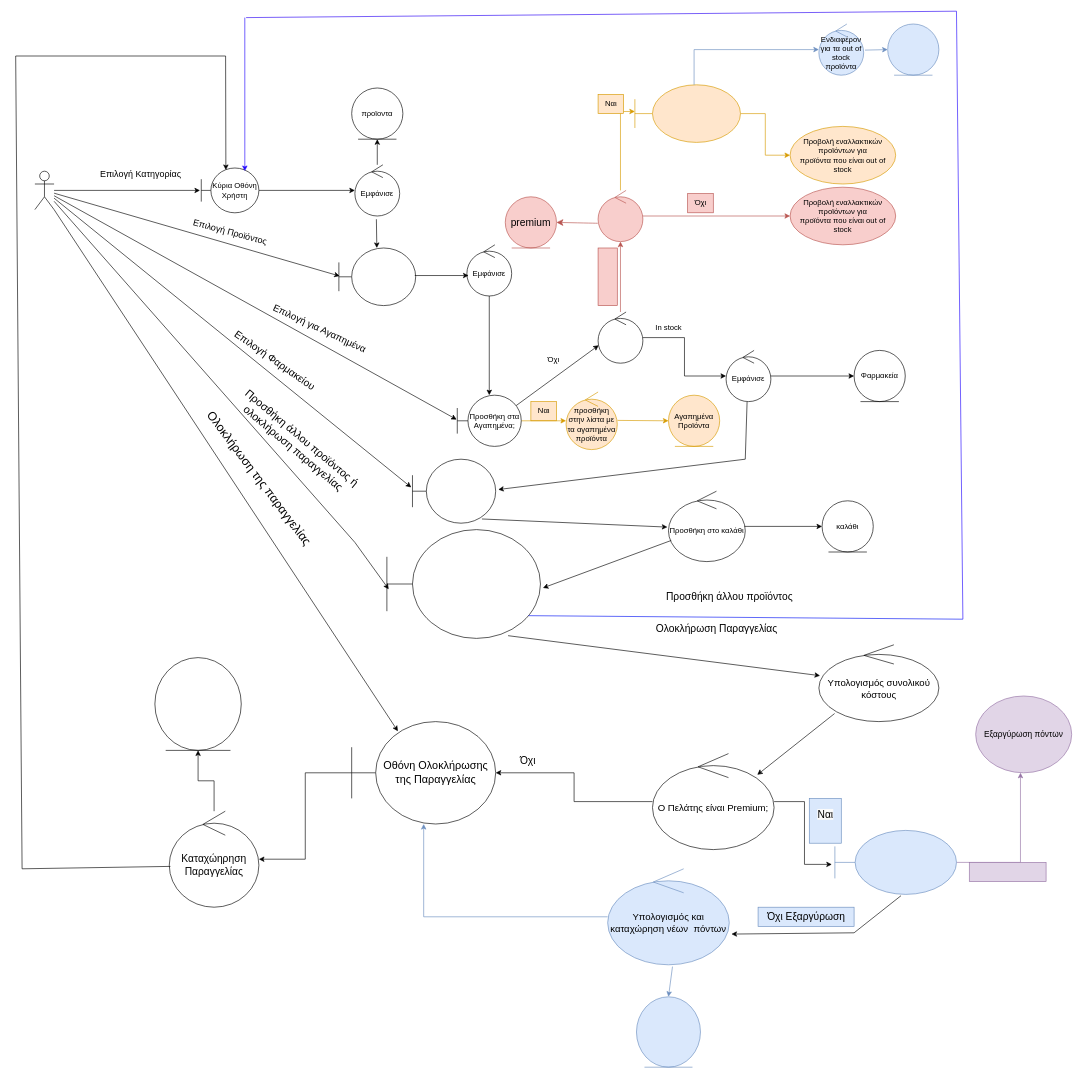
Image size: 1083x1078. Some labels were removed from this diagram. The shapes that lost their labels are listed below. From the top down, each one's centre as x and y in pixels, then its label:
the point at 913,49: ενδιαφέροντα out of stock
the point at 687,113: Οθόνη για επιλογή μεταξύ ενφιαφέροντος και εναλλακτικών
the point at 44,190: πελάτης
the point at 620,216: Είναι ο χρήστης Premium
the point at 377,276: Προϊόντα συγκεκριμένης κατηγορίας
the point at 607,276: Out of stock
the point at 620,337: Έλεγχος Stock
the point at 454,491: Φαρμακεία που διαθέτουν προϊόν
the point at 463,583: Καλάθι παραγγελιών με επιλογές Προσθήκη άλλου προϊόντος ή ολοκλήρωση παραγγελίας
the point at 197,703: Παραγγελίες
the point at 895,862: Όθονη Εξαργύρωσης Πόντων
the point at 1007,872: Εξαργύρωση
the point at 668,1031: ποντοι
